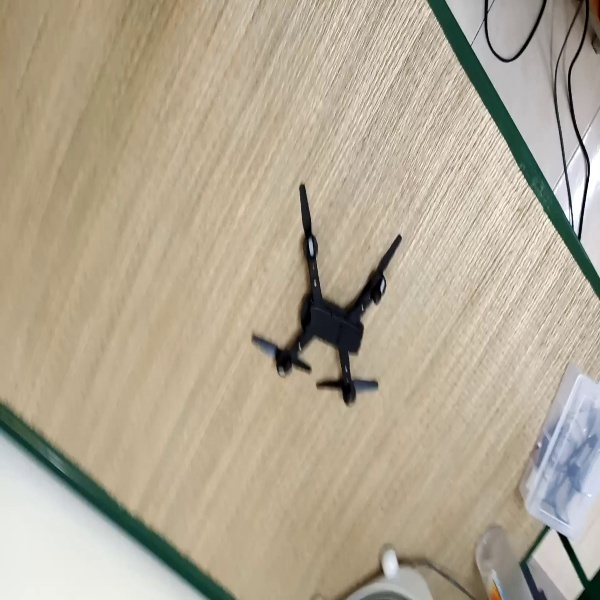drone: (249, 178, 402, 409)
